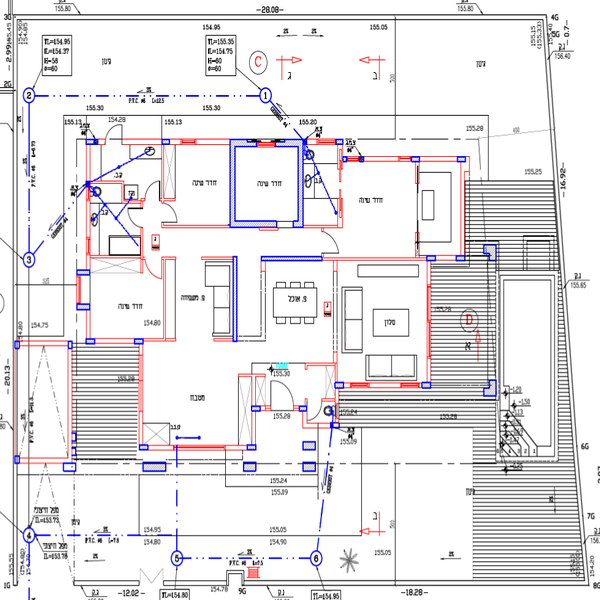door: (266, 375, 296, 415), (318, 226, 350, 254), (145, 174, 161, 206), (129, 203, 147, 228), (142, 256, 162, 278), (158, 202, 179, 222), (307, 398, 323, 422), (106, 124, 125, 142)
room: (139, 335, 258, 451), (332, 259, 435, 390), (161, 137, 237, 229), (87, 134, 163, 226)
wall: (297, 145, 304, 224), (261, 255, 323, 263), (233, 255, 238, 340), (231, 143, 236, 224), (120, 139, 162, 145), (231, 140, 257, 149), (234, 221, 277, 226), (200, 138, 227, 145), (276, 139, 301, 146)
